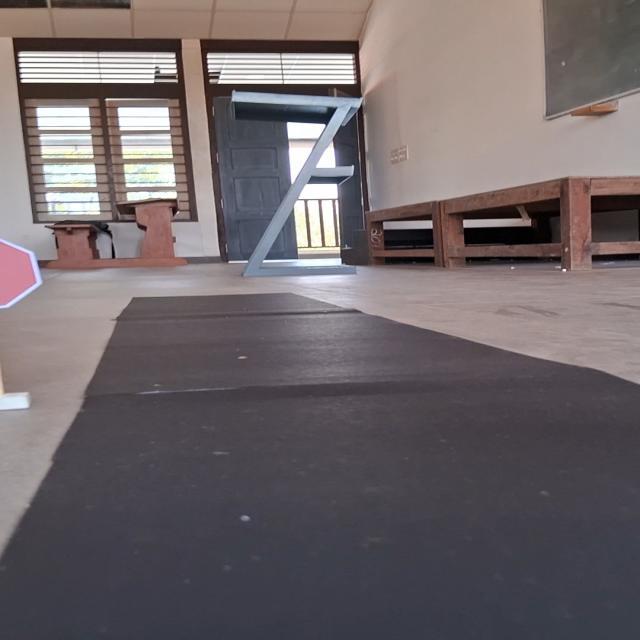Stop: (0, 236, 45, 310)
